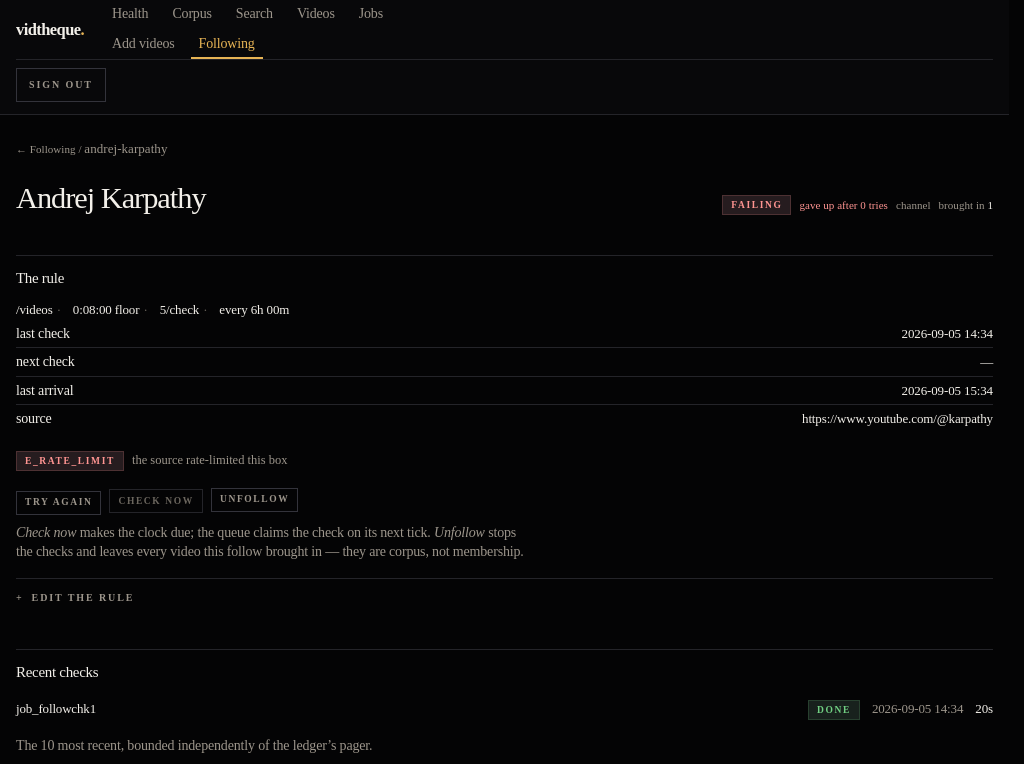
Test: one follow's page › the five writes › clears the last failure on a resume, and re-reads the page it changed
The image size is (1024, 764).
Check: the heading "Andrej Karpathy" is shown, box left=16, top=183, right=206, bottom=214
Check: the text "E_RATE_LIMIT" is shown, box left=16, top=451, right=124, bottom=471
Click the button "Try again" at (59, 503), box left=16, top=491, right=101, bottom=515
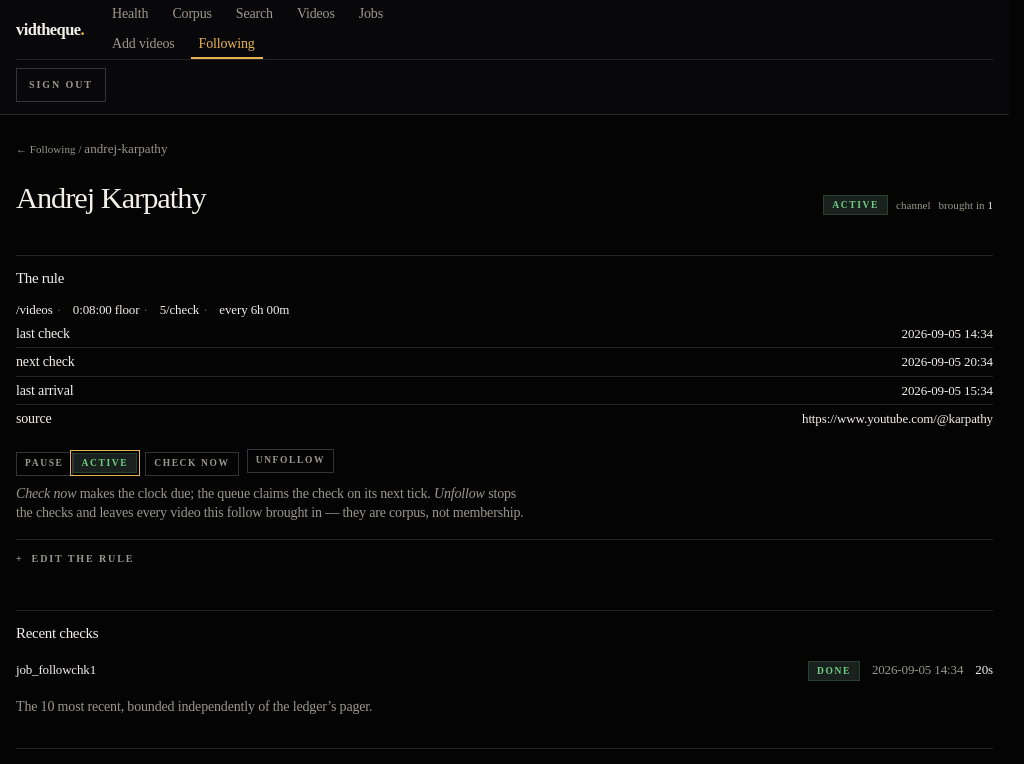
Check: the text "E_RATE_LIMIT" is gone
Check: the text "active" next to "channel" is shown, box left=832, top=200, right=879, bottom=210
Check: the text "the source rate-limited this box" is gone
